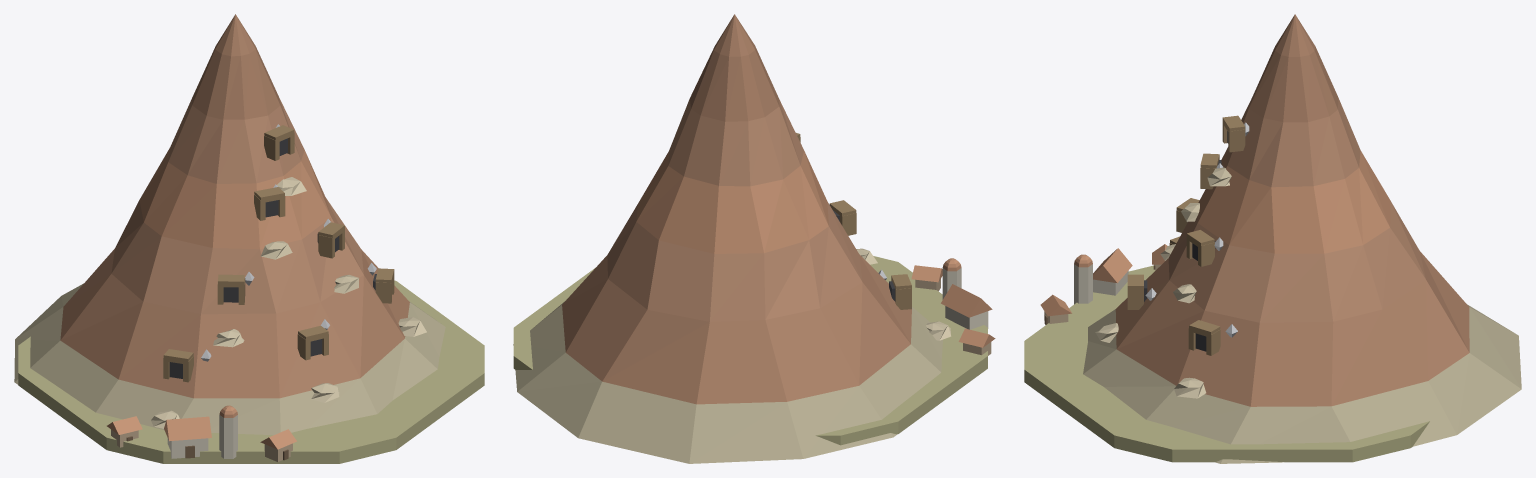
The model's file is cerro-de-potosi.glb.
3 views of the same model, side by side, from view 1: azimuth 30°, elevation 25°; view 2: azimuth 150°, elevation 25°; view 3: azimuth 270°, elevation 25° (orthographic). The views are drawn at different scales.
Visible parts, largest first — view 1: LOD0; view 2: LOD0; view 3: LOD0.
Boxes of the visible parts, <box> form: LOD0: <box>14,14,484,463</box>; LOD0: <box>513,14,995,463</box>; LOD0: <box>1024,14,1521,463</box>.
Size of what is drawn, in the model's own units: 1.66 by 1.44 by 1.83.
